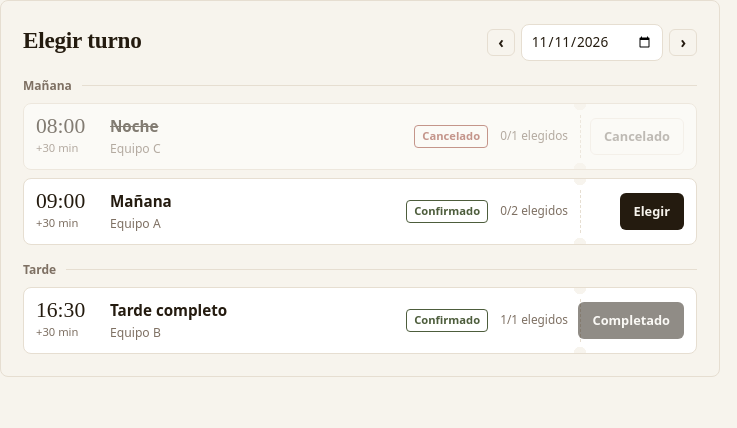
Test case: TurnoPicker (componente del usuario) › books a free turn: success notice, onBooked, then shows "Quitar"
Click the button "Elegir" at (652, 211), box [620,193,684,230]
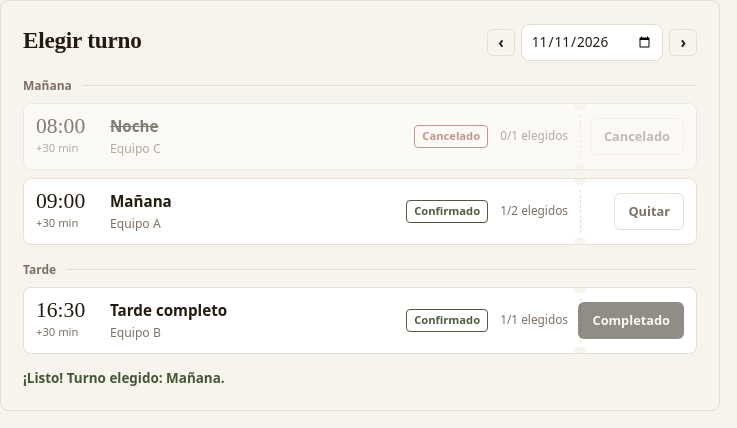
expect the text "¡Listo! Turno elegido: Mañana." is shown: met, box [23,369,225,387]
expect the button "Quitar" is shown: met, box [614,193,684,230]
